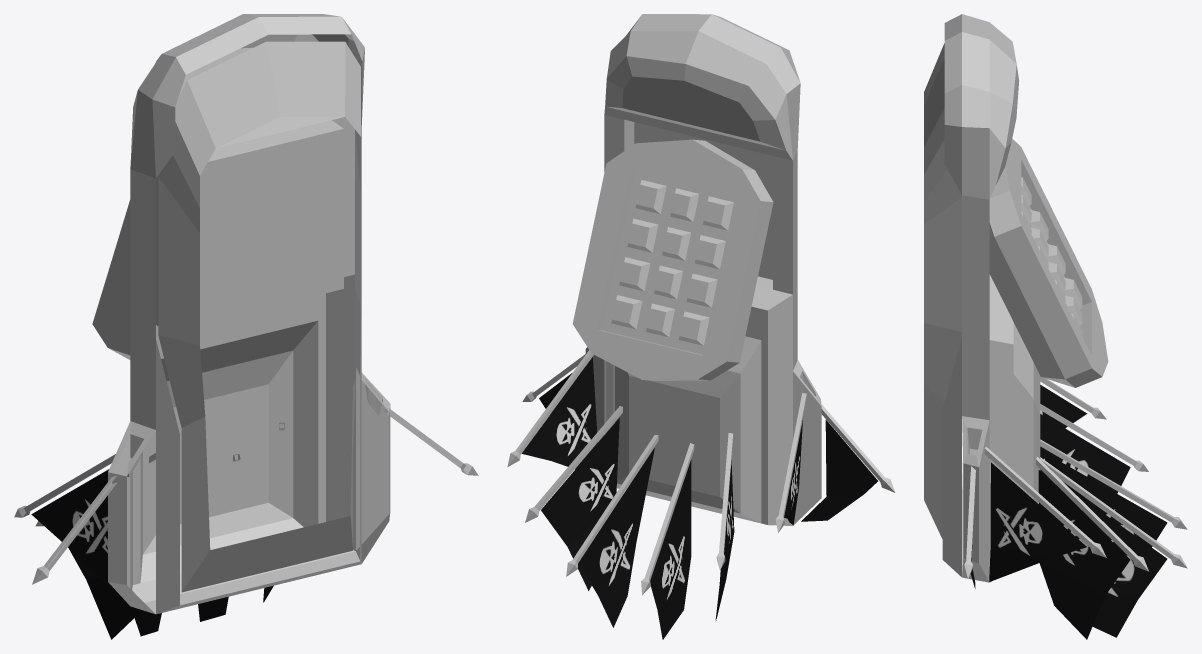
File: pirate_multi_my_8.fbx
3 renders of one model, left to right at view 1: azimuth 30°, elevation 25°; view 2: azimuth 150°, elevation 25°; view 3: azimuth 270°, elevation 25°, orthographic. The views are drawn at different scales.
Visible parts, largest first — view 1: Cube.362; view 2: Cube.362; view 3: Cube.362.
Part boxes in pixels (x1,y1,x2,y2): Cube.362: [14, 14, 478, 639]; Cube.362: [507, 14, 895, 639]; Cube.362: [924, 14, 1187, 639].
Size of the model in its own units: 520 by 753 by 303.
